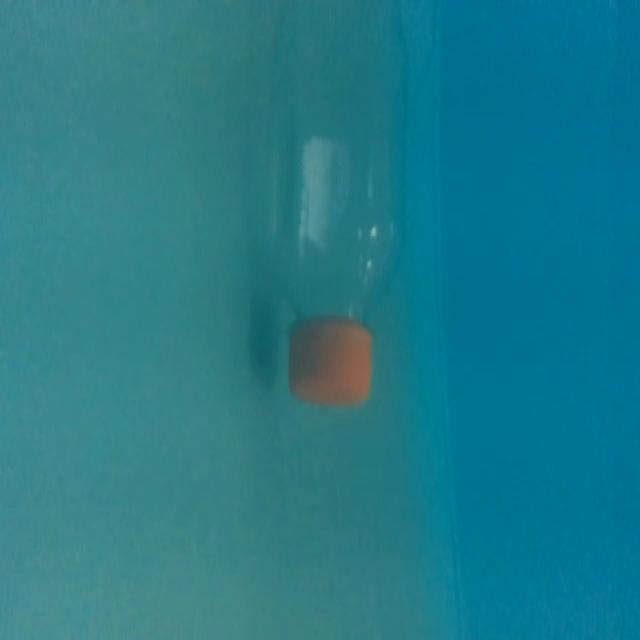plastic bottle: (257, 0, 414, 413)
